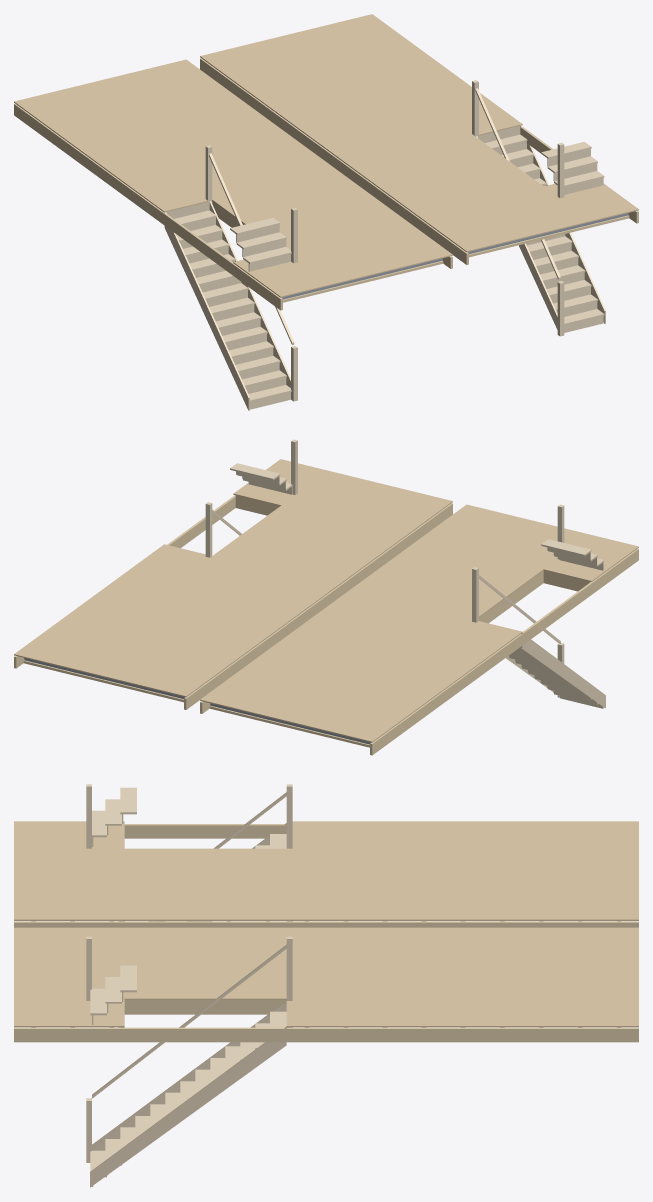
Rendered from stage-3-house.glb.
3 renders of one model, top to bottom at view 1: azimuth 30°, elevation 25°; view 2: azimuth 150°, elevation 25°; view 3: azimuth 270°, elevation 25°, orthographic. The views are drawn at different scales.
Visible parts, largest first — view 1: Geom3D_ (×4); view 2: Geom3D_ (×4); view 3: Geom3D_ (×3).
Boxes of the visible parts, x1,y1,x2,y2 form: Geom3D_ (×4): (14, 14, 638, 410); Geom3D_ (×4): (14, 439, 638, 755); Geom3D_ (×3): (14, 784, 638, 1187).
Bounding box in the file's own units: 7.45 × 3.79 × 9.6.
